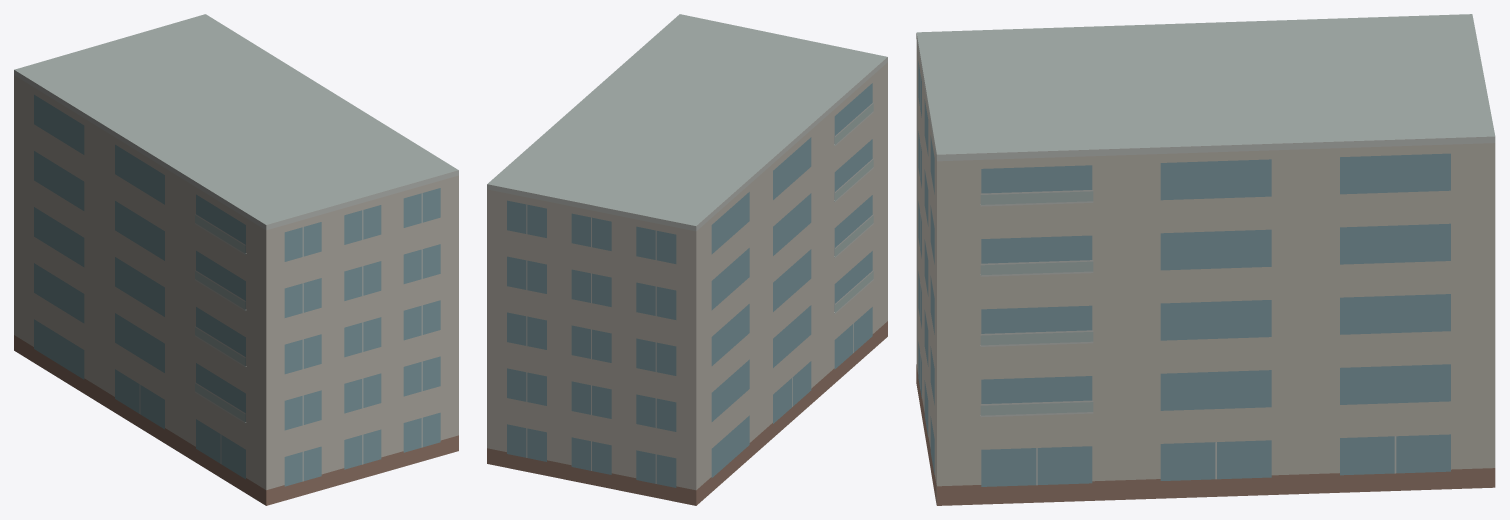
The model's file is survey-upis-33017511.glb.
3 renders of one model, left to right at view 1: azimuth 30°, elevation 25°; view 2: azimuth 150°, elevation 25°; view 3: azimuth 270°, elevation 25°, orthographic. The views are drawn at different scales.
Visible parts, largest first — view 1: survey-upis-33017511.tmp; view 2: survey-upis-33017511.tmp; view 3: survey-upis-33017511.tmp.
Boxes of the visible parts, x1,y1,x2,y2 form: survey-upis-33017511.tmp: [14, 14, 458, 505]; survey-upis-33017511.tmp: [487, 14, 887, 505]; survey-upis-33017511.tmp: [916, 14, 1495, 505].
Bounding box in the file's own units: 11.19 × 13 × 19.44.
